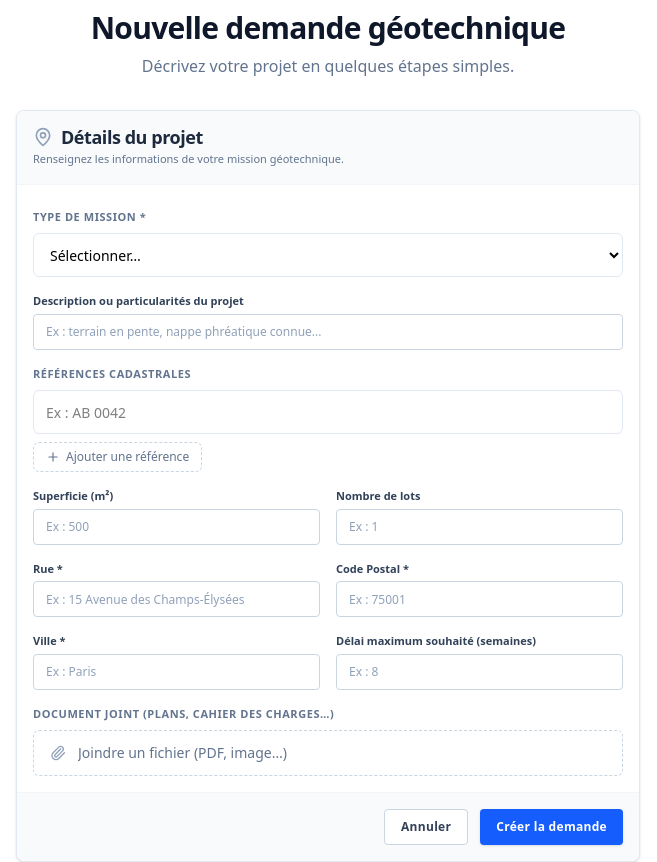
NewRequest — références cadastrales dynamiques › supprime un input au clic sur le bouton supprimer
# Ajouter une deuxième référence
Click the button "Ajouter une référence".
click(118, 457)  # box x1=33 y1=442 x2=202 y2=472
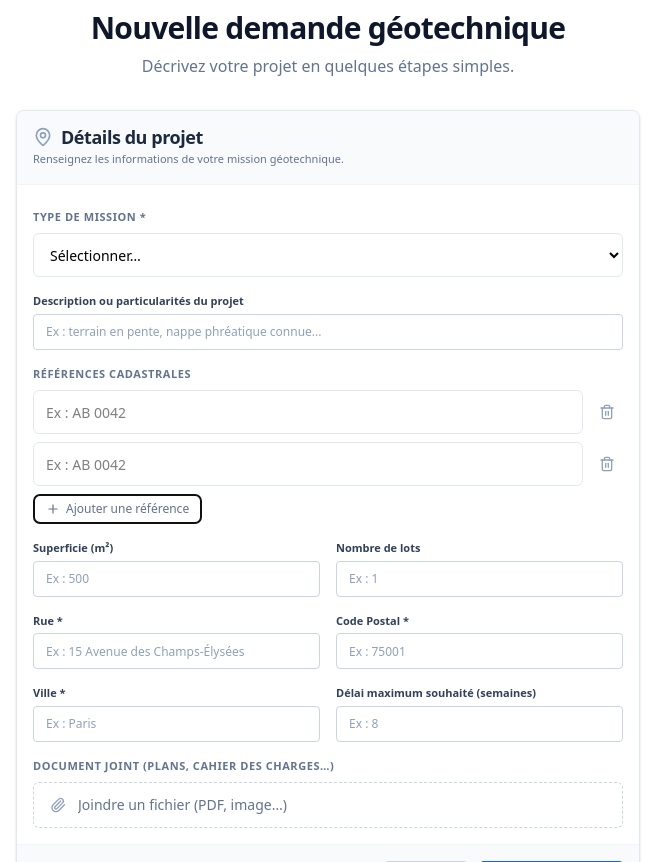
Result: the number of fields with placeholder "Ex : AB 0042" is 2 at x1=33 y1=390 x2=583 y2=434; x1=33 y1=442 x2=583 y2=486
# Supprimer la première
Click the 1st button titled "Supprimer".
click(607, 412)  # box x1=591 y1=396 x2=623 y2=428
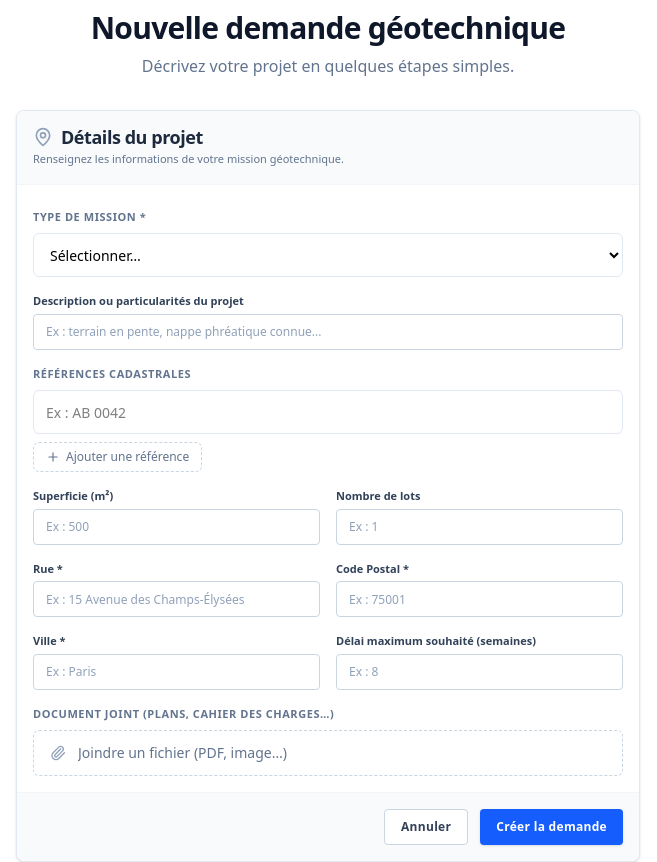
Result: the number of fields with placeholder "Ex : AB 0042" is 1 at x1=33 y1=390 x2=623 y2=434
